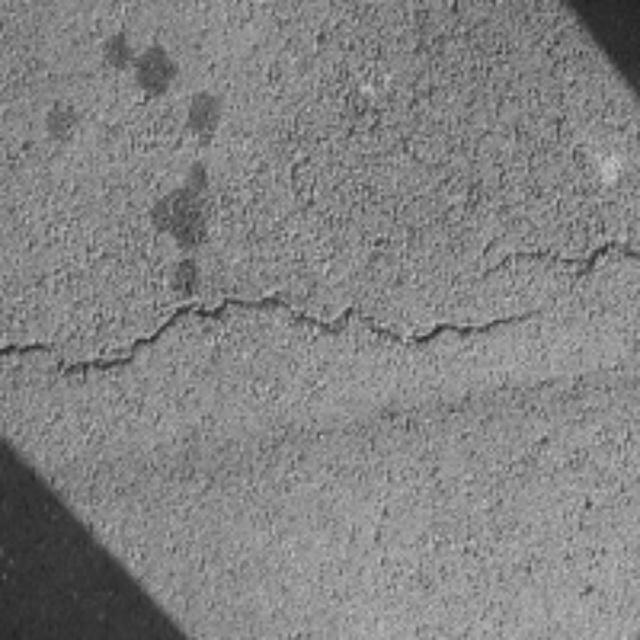Crack: (16, 200, 640, 398)
